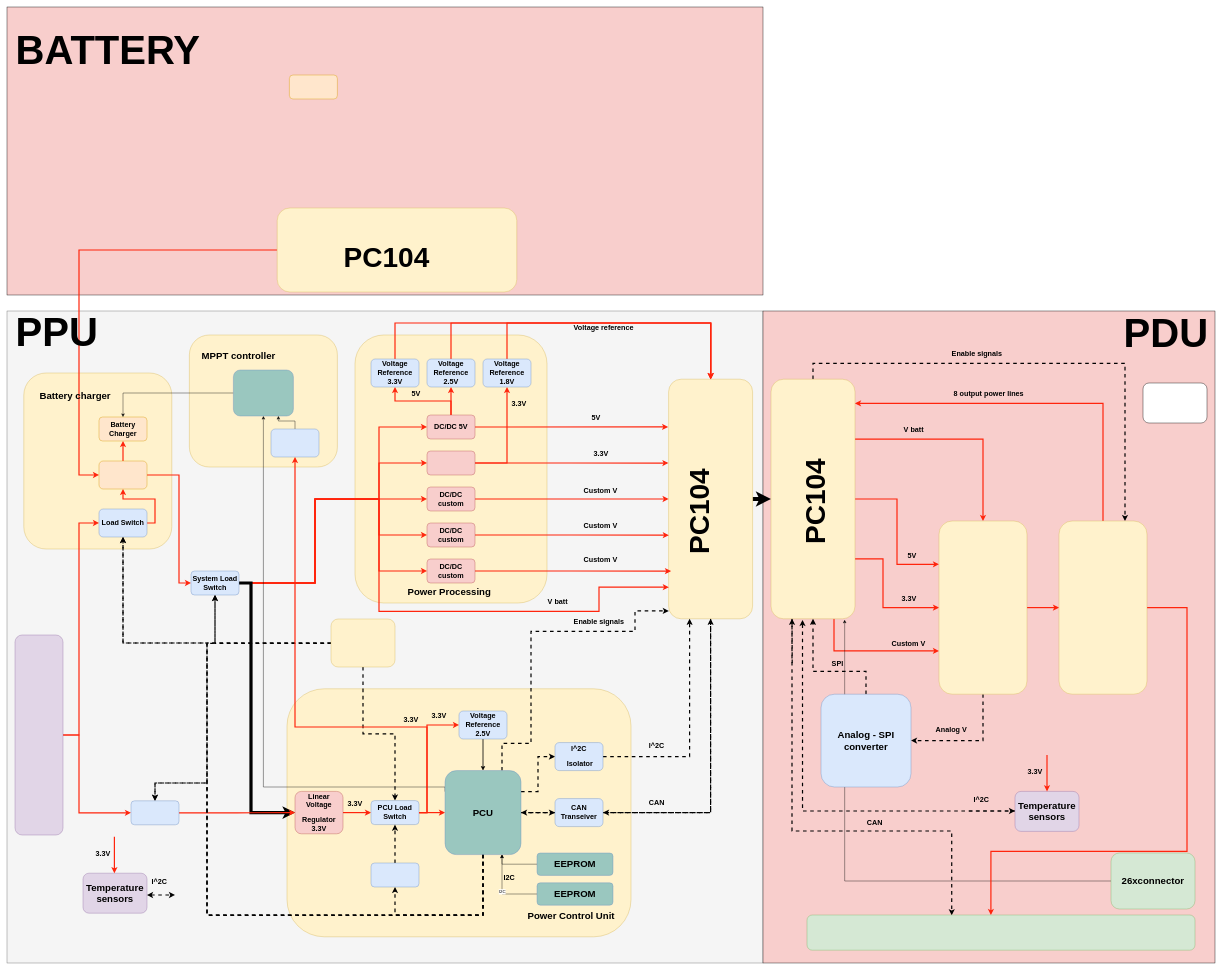
Some shapes in this 1222 by 970 pixel diagram are drawn without their labels. Here are the shapes that lost their labels. From the top down, the centre of each, then its label:
point (313, 87): Battery cell
point (263, 393): MPPT MCU
point (1175, 403): Temperature sensors connector
point (295, 443): Switch
point (451, 463): DC/DC 3.3V
point (123, 475): System Power Selector
point (983, 607): Current Sensors
point (1103, 607): Switches
point (363, 643): RBF
point (39, 735): Solar Panels 1...6 Controllers
point (155, 812): Bypass Load Switch
point (395, 875): Watchdog
point (1001, 932): Side Connectors
